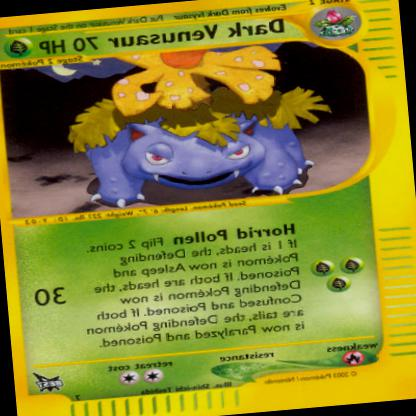Venusaur: (58, 45, 314, 211)
